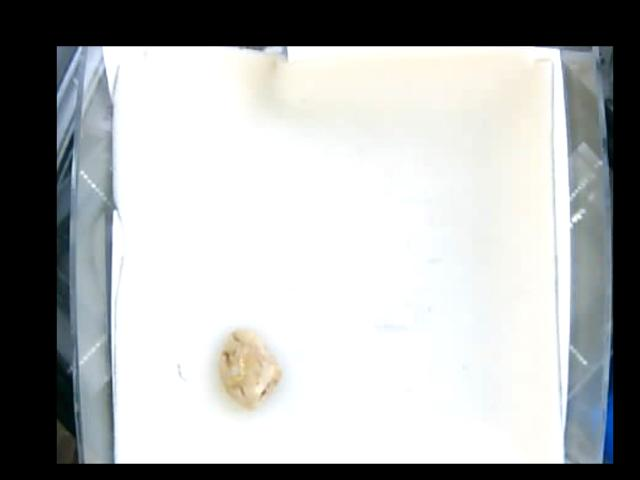Pebble: (219, 325, 281, 408)
